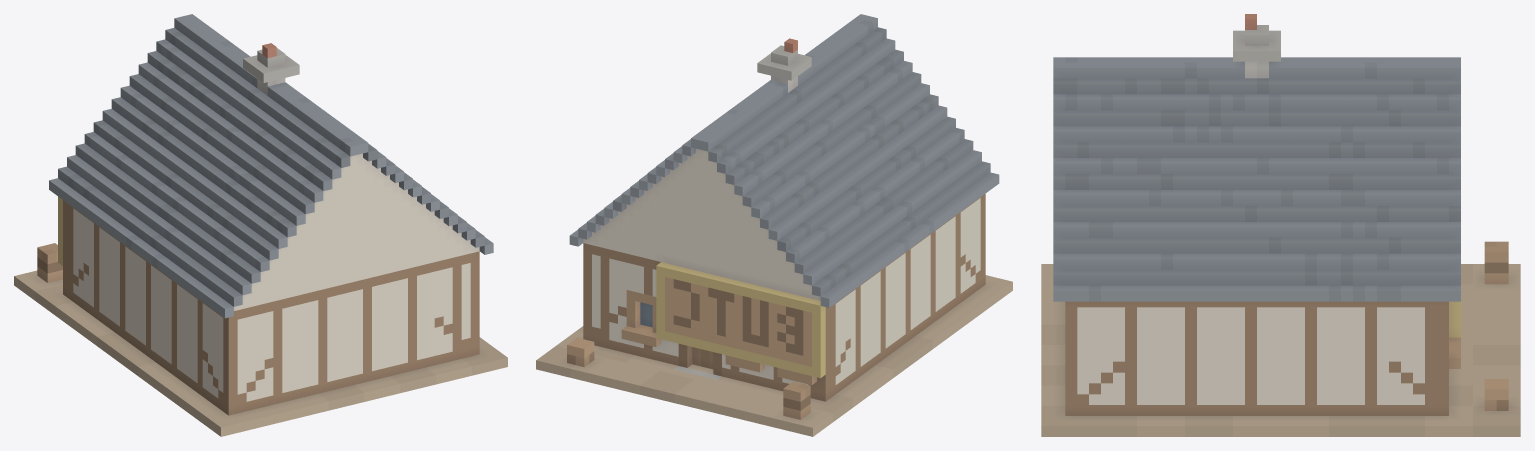
File: butcher.glb
3 renders of one model, left to right at view 1: azimuth 30°, elevation 25°; view 2: azimuth 150°, elevation 25°; view 3: azimuth 270°, elevation 25°, orthographic. The views are drawn at different scales.
Visible parts, largest first — view 1: butcher; view 2: butcher; view 3: butcher.
Part boxes in pixels (x1=…): butcher: x1=14, y1=14, x2=507, y2=436; butcher: x1=536, y1=14, x2=1012, y2=436; butcher: x1=1041, y1=14, x2=1520, y2=436.
Size of the model in its own units: 4 by 3.88 by 5.
